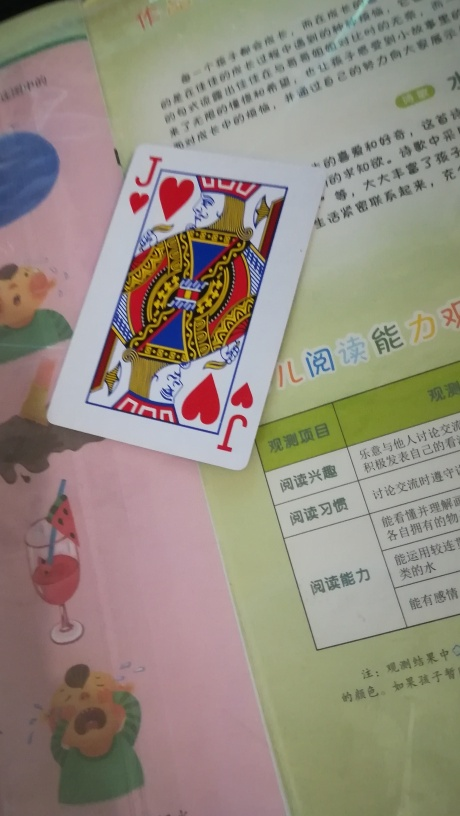hx j: (47, 141, 325, 476)
